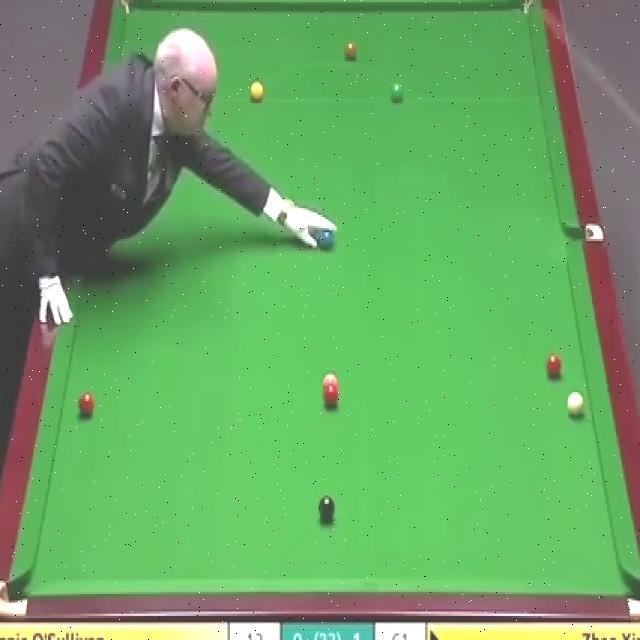black-ball: (318, 495, 336, 524)
blue-ball: (319, 228, 334, 250)
brown-ball: (344, 40, 357, 62)
green-ball: (389, 80, 404, 103)
pink-ball: (322, 373, 339, 388)
red-ball: (78, 389, 96, 419), (322, 385, 340, 408), (546, 355, 561, 380)
white-ball: (566, 391, 584, 419)
yellow-ball: (250, 81, 264, 103)
